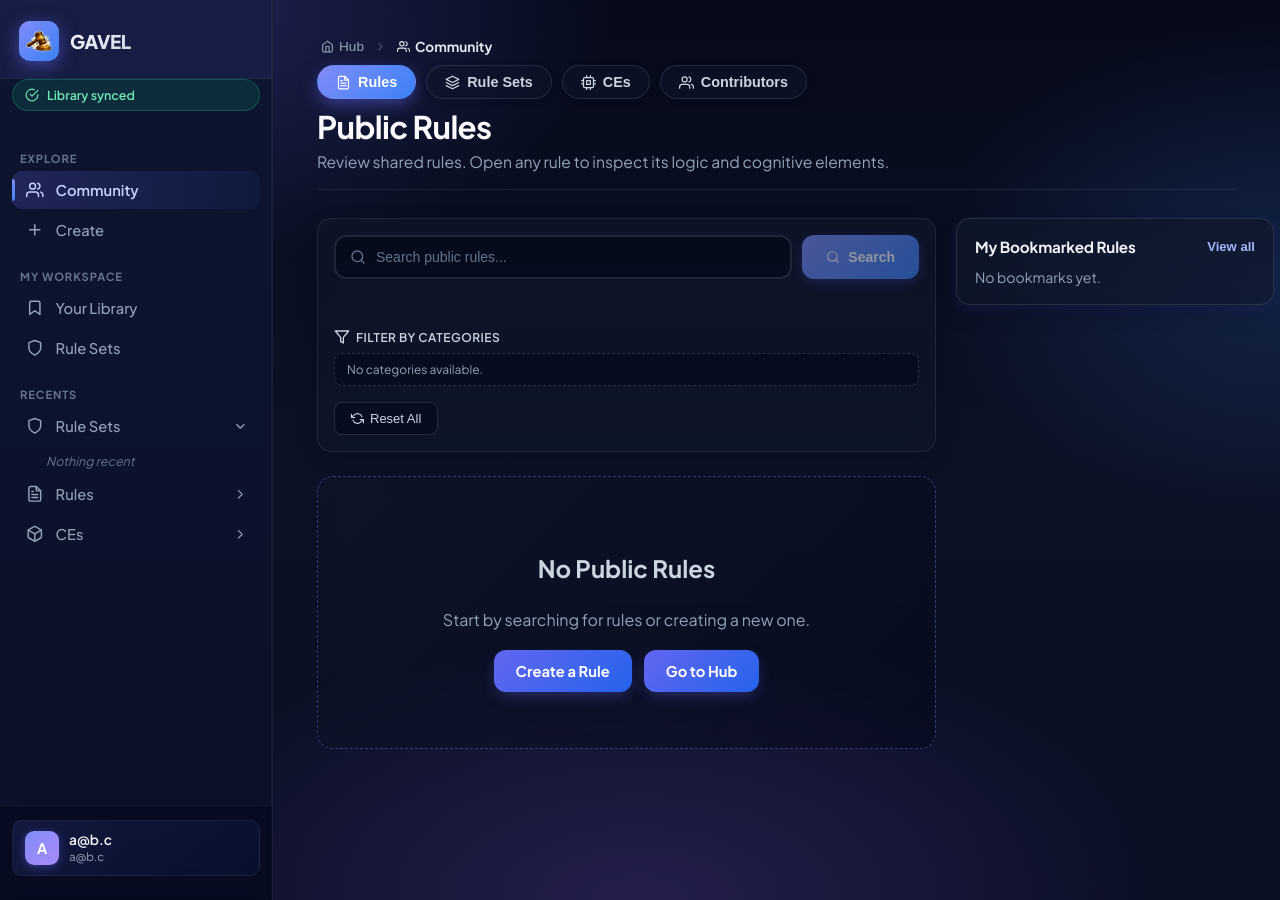
Test: Browse — live search › shows search results and a count when searchLibrary returns matches
Type "safety" into the field with placeholder "Search public rules..." at (571,257), box [366,237,776,277]
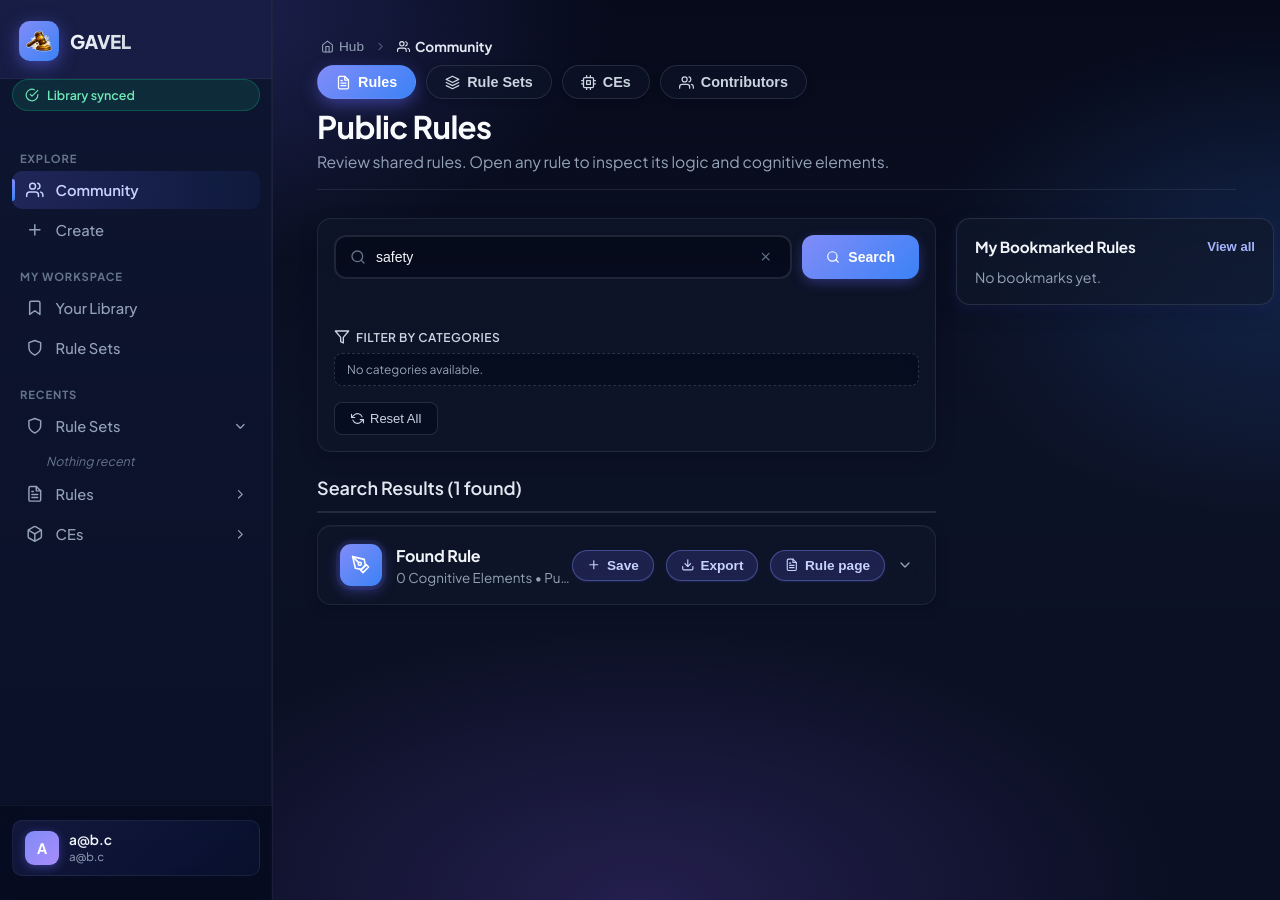
Now the heading "Found Rule" is shown, box [396,544,480,566]
Now the heading "Search Results (1 found)" is shown, box [317,476,522,499]
